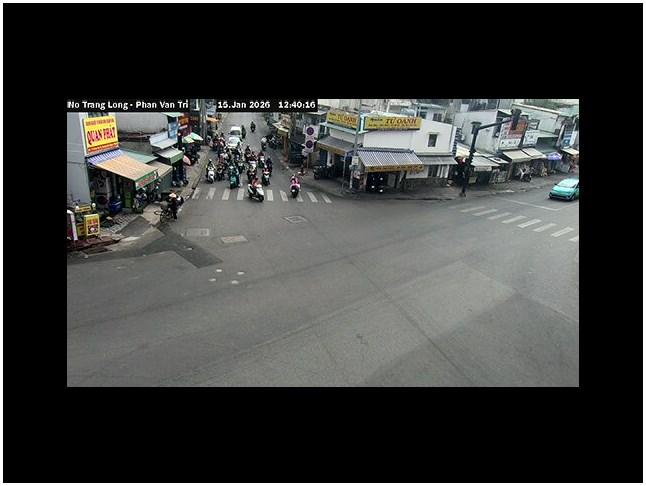car: (549, 176, 579, 201)
motorbike: (289, 174, 301, 200)
